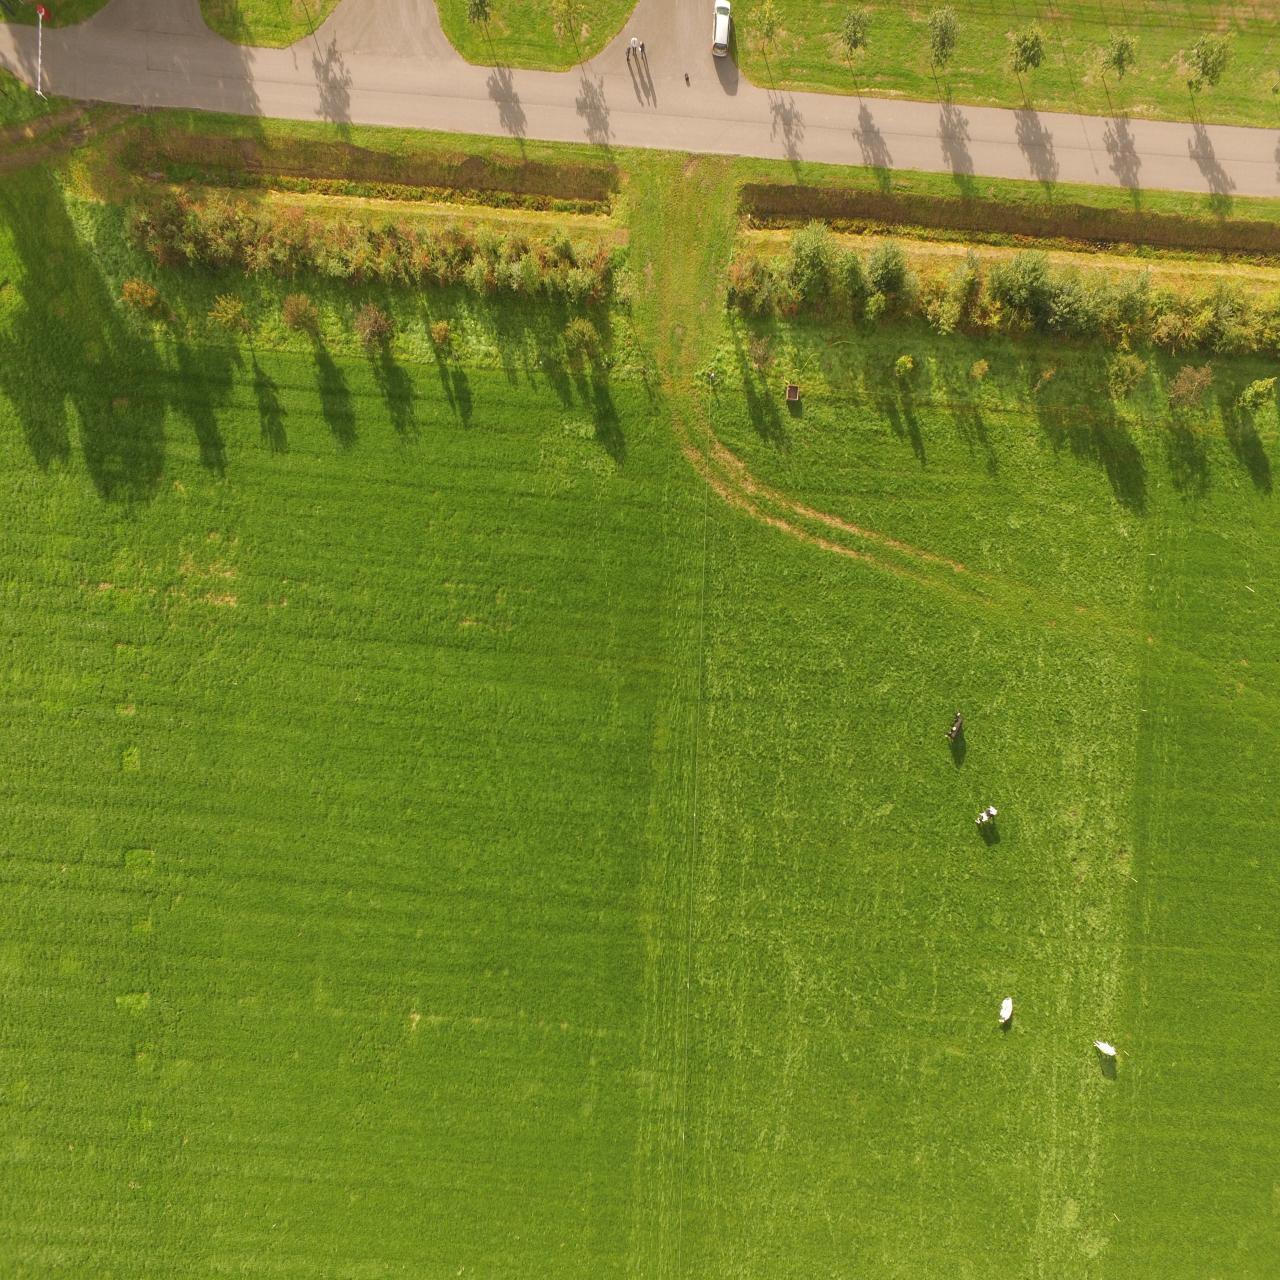cow: (1090, 1034, 1129, 1076), (993, 987, 1015, 1040), (972, 799, 1001, 835), (942, 704, 966, 747)
